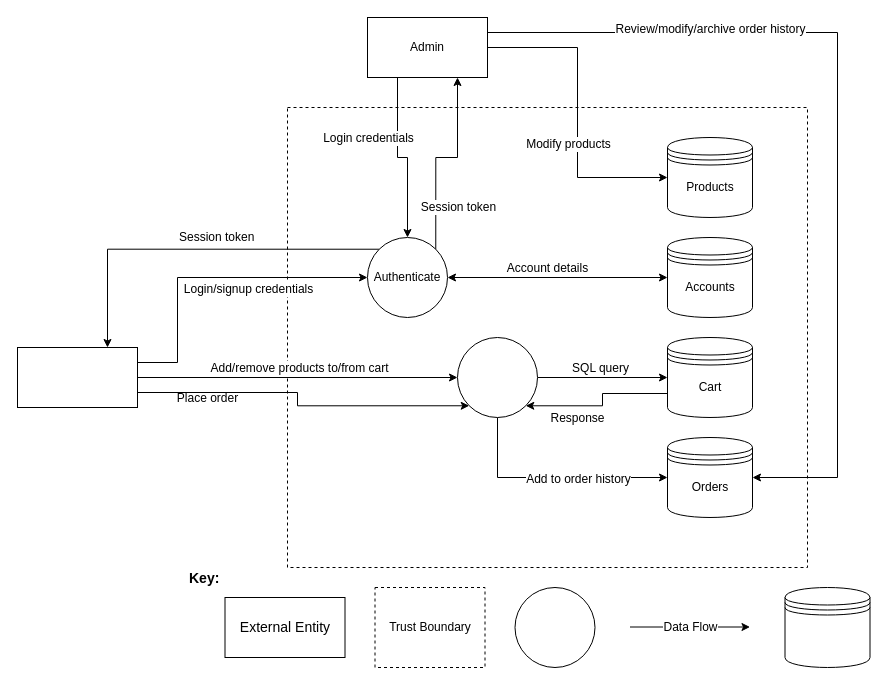
Some shapes in this 888 by 685 pixel diagram are drawn without their labels. The shapes that lost their labels are listed below. From the top down, each one's centre as x and y in pixels, then its label:
At point 77,377: "Customer".
At point 497,377: "Handle user request".
At point 554,627: "Process".
At point 827,627: "Data Store".
